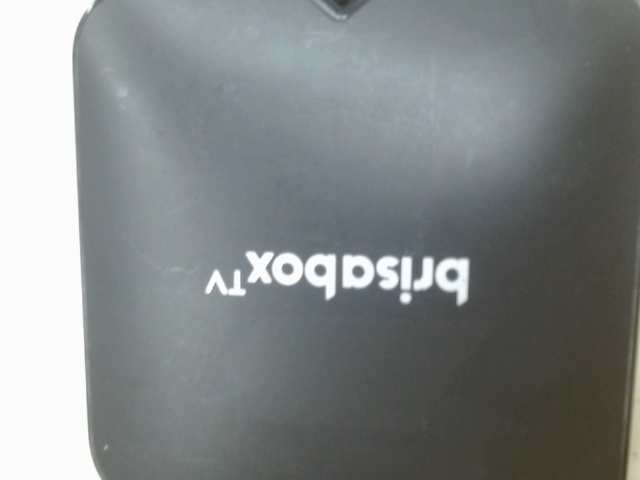AH_brisabox: (190, 238, 487, 316)
